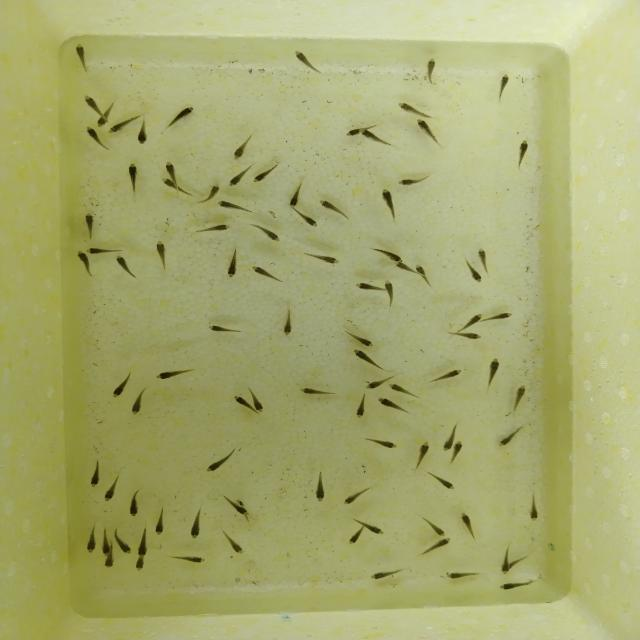fingerling: (416, 538, 454, 560), (416, 119, 444, 147), (360, 129, 396, 149), (500, 427, 531, 448), (249, 164, 278, 186), (254, 223, 284, 244), (207, 452, 237, 473), (113, 257, 138, 282), (289, 46, 314, 71), (221, 530, 246, 555), (336, 488, 370, 506), (317, 197, 350, 215), (363, 568, 402, 583), (289, 206, 318, 226), (252, 266, 282, 285), (345, 347, 375, 366), (153, 367, 191, 382), (375, 397, 408, 414), (429, 472, 457, 491), (420, 516, 444, 538), (224, 167, 249, 188), (134, 117, 152, 146), (351, 329, 377, 349), (154, 240, 171, 270), (484, 356, 500, 387), (310, 474, 327, 503), (296, 384, 331, 398), (188, 504, 201, 541), (461, 515, 478, 542), (412, 444, 430, 469), (81, 90, 101, 112), (108, 376, 128, 398), (200, 184, 222, 204), (416, 264, 436, 286), (232, 138, 251, 161), (171, 106, 198, 122), (227, 503, 252, 520), (287, 183, 304, 208), (380, 187, 394, 217), (131, 383, 143, 418), (392, 102, 424, 115), (218, 200, 250, 213), (499, 581, 540, 591), (466, 262, 483, 286), (227, 248, 239, 282), (77, 254, 94, 278), (363, 436, 396, 448), (116, 534, 134, 556), (177, 553, 210, 565), (136, 529, 150, 557), (73, 42, 88, 68), (396, 177, 431, 188), (97, 108, 115, 129), (516, 137, 529, 166), (88, 463, 103, 488), (282, 311, 296, 337), (363, 378, 389, 392), (153, 509, 166, 537), (232, 395, 252, 413), (312, 255, 348, 265), (495, 74, 510, 98), (451, 331, 487, 341), (86, 524, 98, 554), (389, 384, 416, 397), (158, 178, 183, 192), (103, 482, 120, 502), (127, 494, 140, 520), (438, 367, 464, 380), (442, 573, 479, 582), (364, 522, 386, 537), (125, 162, 138, 187), (528, 498, 541, 523), (384, 283, 396, 310), (106, 122, 132, 134), (354, 394, 366, 420), (372, 255, 406, 264), (164, 158, 179, 178), (104, 544, 114, 573), (425, 58, 437, 82), (196, 225, 228, 234), (347, 530, 363, 548), (86, 214, 97, 240), (488, 311, 514, 322), (444, 426, 454, 454), (462, 313, 482, 327), (514, 385, 526, 408), (87, 124, 98, 149), (476, 246, 489, 267), (85, 247, 124, 254), (341, 127, 365, 138), (100, 528, 109, 556), (454, 439, 464, 464), (204, 325, 239, 332), (502, 554, 513, 576), (352, 283, 382, 291), (393, 261, 413, 273), (254, 391, 264, 413), (135, 559, 145, 575)
